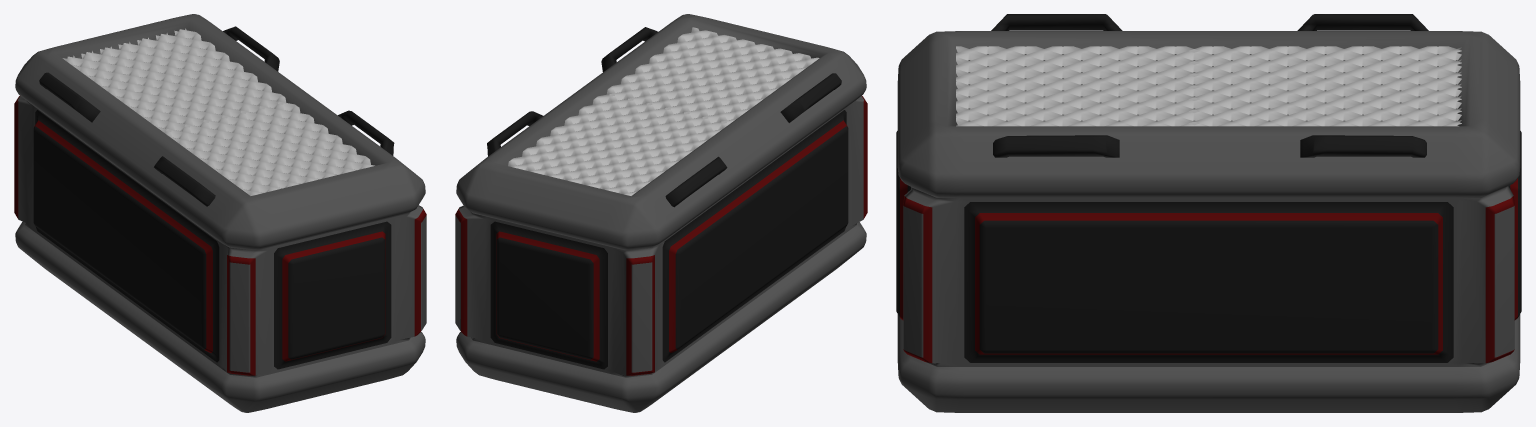
3 views of the same model, side by side, from view 1: azimuth 30°, elevation 25°; view 2: azimuth 150°, elevation 25°; view 3: azimuth 270°, elevation 25° (orthographic). The views are drawn at different scales.
Parts seen in each view (by area): view 1: Box010; view 2: Box010; view 3: Box010.
Boxes of the visible parts, x1,y1,x2,y2 form: Box010: (14, 14, 426, 412); Box010: (455, 14, 867, 412); Box010: (896, 14, 1521, 412).
Size of the model in its own units: 1.03 by 1.01 by 2.01.
